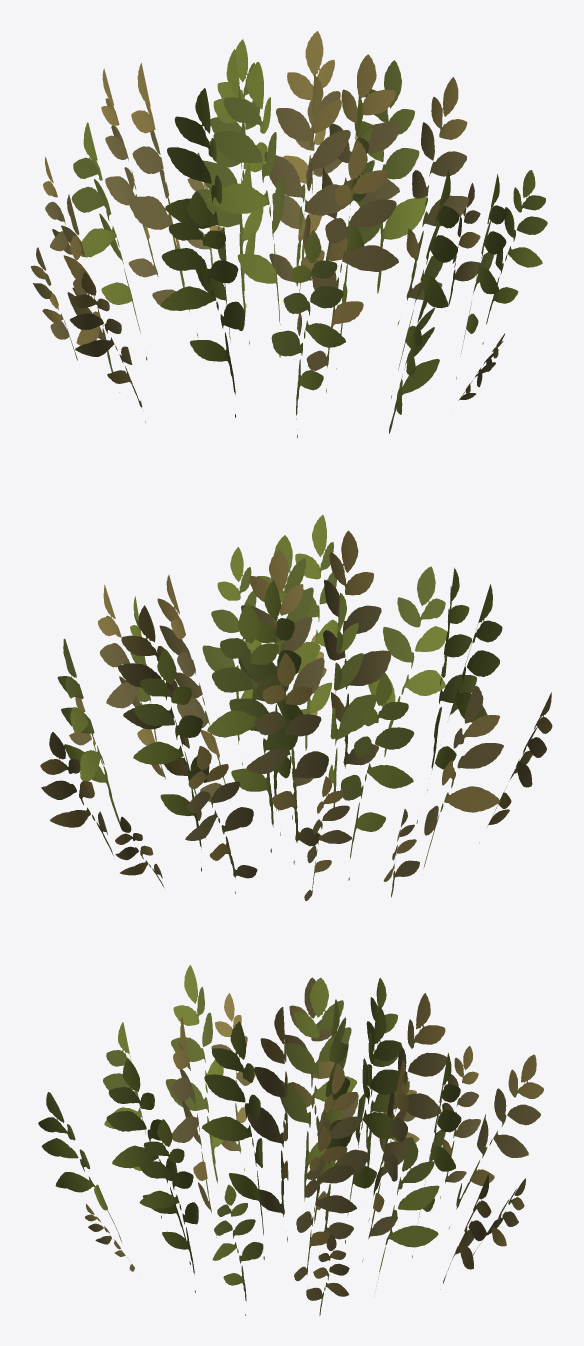
File: Green_Patch_1.fbx
The picture shows the model from 3 angles, top to bottom: view 1: azimuth 30°, elevation 25°; view 2: azimuth 150°, elevation 25°; view 3: azimuth 270°, elevation 25°; orthographic projection. The views are drawn at different scales.
Parts seen in each view (by area): view 1: Green_Patch_1; view 2: Green_Patch_1; view 3: Green_Patch_1.
Boxes of the visible parts, x1,y1,x2,y2 form: Green_Patch_1: (31,31,547,437); Green_Patch_1: (40,515,552,900); Green_Patch_1: (38,965,543,1315).
Size of the model in its own units: 162 by 98.25 by 183.
Materials: 1 (1 with a texture image).
